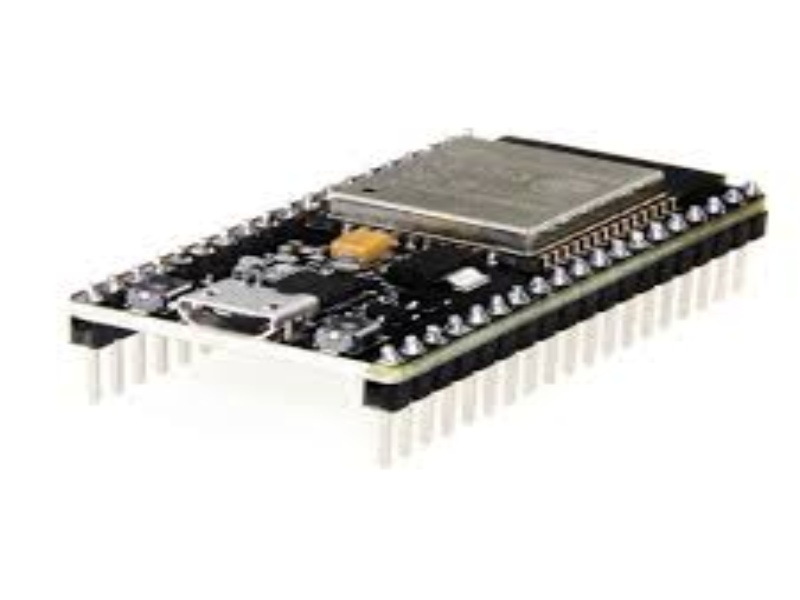esp32: (66, 117, 790, 450)
